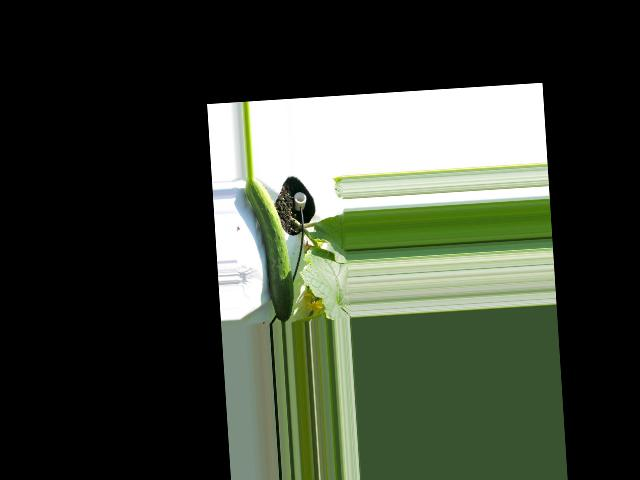cucumber: (244, 174, 295, 324)
